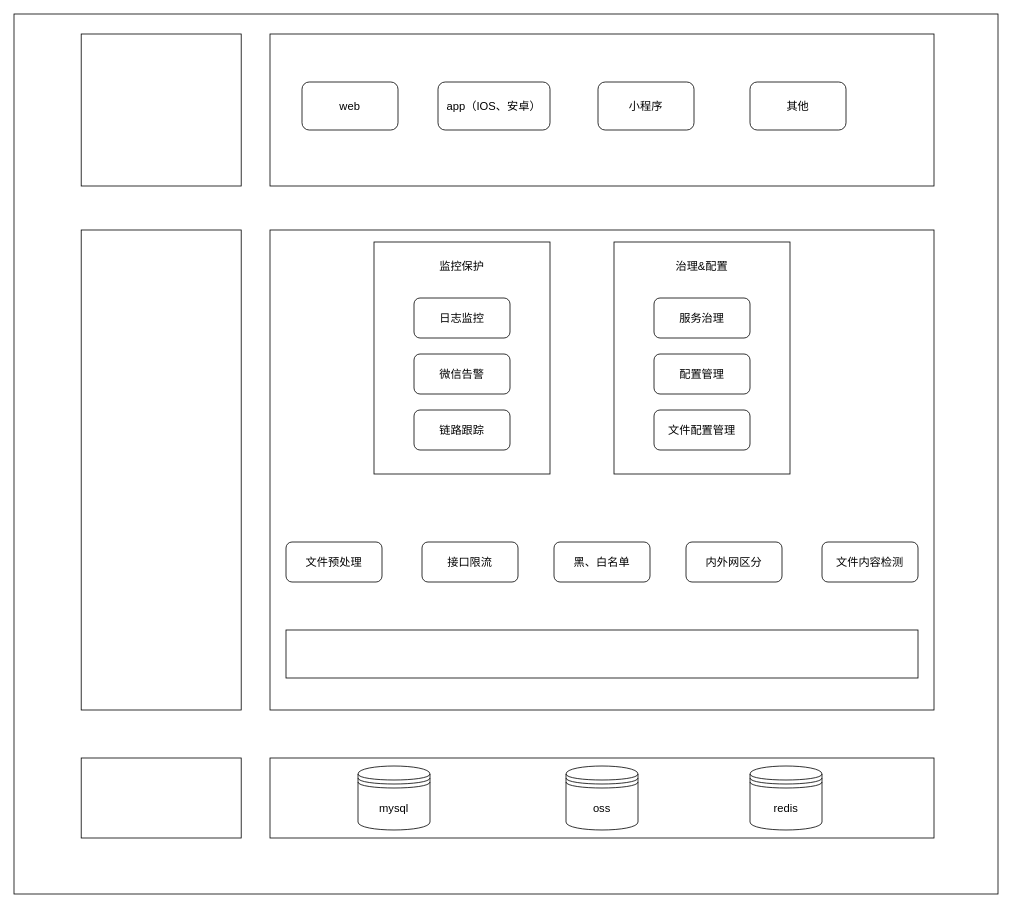
Image size: 1012x908. Some labels were removed from this diagram. The shapes that lost their labels are listed below. From the top down, each one's centre as x and y in pixels, then its label:
At point (160, 109): "客户端".
At point (160, 469): "服务层".
At point (601, 653): "计划任务（清除过期文件）".
At point (160, 797): "数据层".
